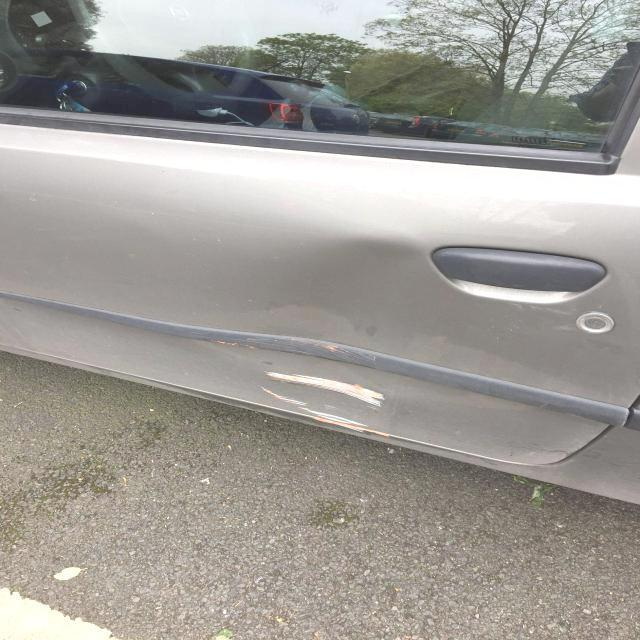minor: (313, 417, 370, 432)
moderate: (209, 222, 636, 472), (262, 367, 385, 418)
